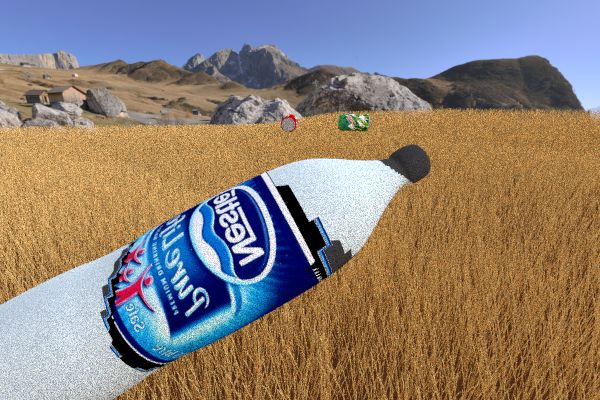Plastic Bottle: (0, 144, 430, 400), (337, 114, 370, 131), (280, 114, 297, 132)
